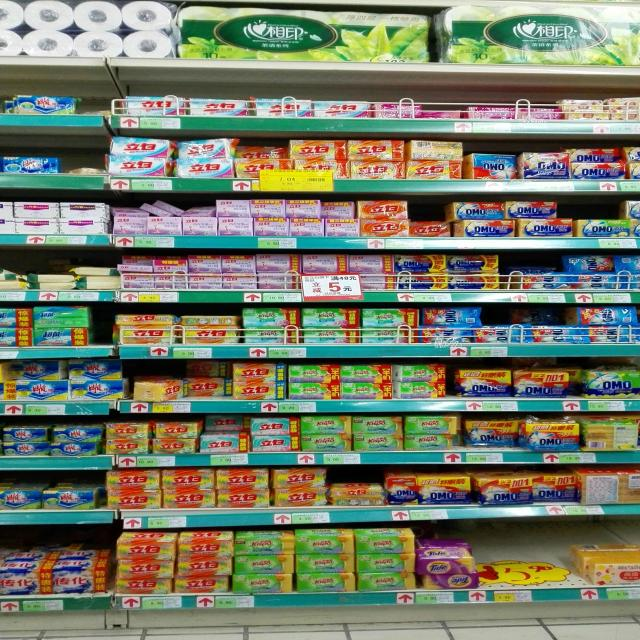unorganised: (463, 151, 517, 182), (467, 418, 520, 448), (132, 375, 188, 401), (446, 199, 505, 223), (179, 136, 239, 158), (503, 196, 560, 219), (563, 252, 616, 276), (139, 199, 185, 220), (189, 358, 228, 382), (207, 414, 249, 433), (107, 200, 147, 217), (188, 203, 216, 217)
